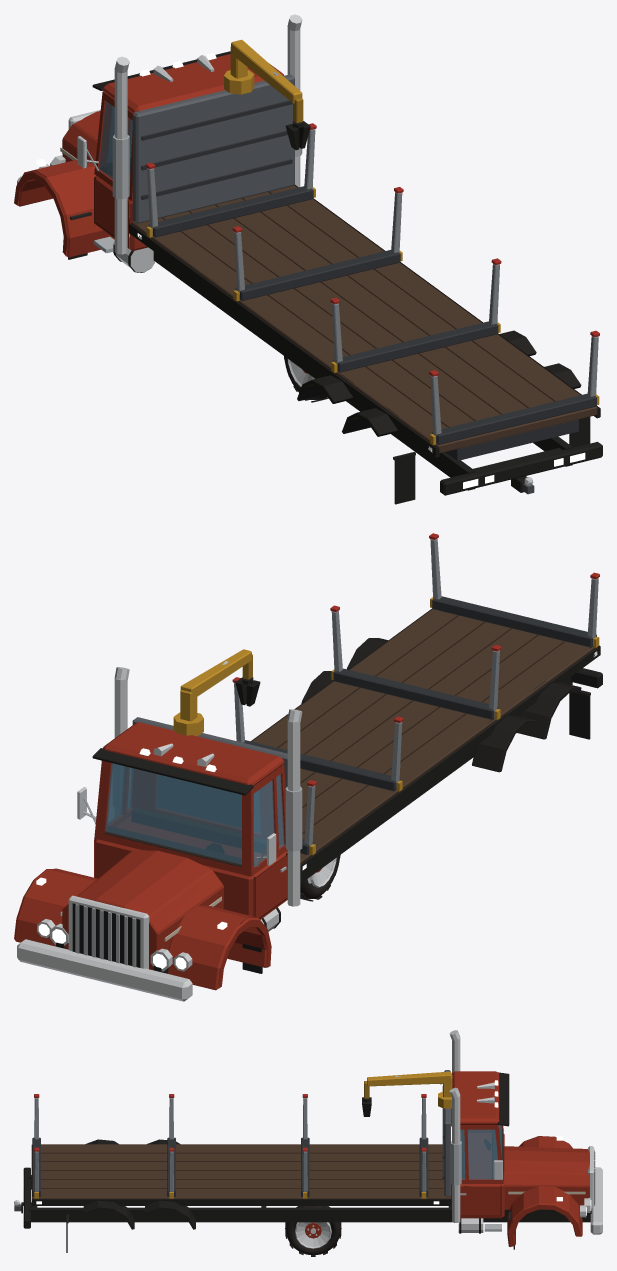
Rendered from LoggingRig.glb.
3 views of the same model, one above another, from view 1: azimuth 30°, elevation 25°; view 2: azimuth 150°, elevation 25°; view 3: azimuth 270°, elevation 25° (orthographic). The views are drawn at different scales.
Parts seen in each view (by area): view 1: Bed, Body, Glass, Lights; view 2: Body, Bed, Glass, Lights, Wheel; view 3: Bed, Body, Glass, Wheel.
Boxes of the visible parts, left/top/right/bottom form: Bed: left=129, top=74, right=600, bottom=457; Body: left=14, top=14, right=602, bottom=504; Glass: left=84, top=101, right=132, bottom=185; Lights: left=36, top=53, right=585, bottom=488; Body: left=14, top=638, right=602, bottom=1001; Bed: left=132, top=533, right=600, bottom=874; Glass: left=86, top=763, right=284, bottom=866; Lights: left=36, top=651, right=597, bottom=969; Wheel: left=300, top=855, right=340, bottom=901; Bed: left=31, top=1070, right=451, bottom=1205; Body: left=23, top=1030, right=602, bottom=1252; Glass: left=460, top=1125, right=502, bottom=1179; Wheel: left=285, top=1206, right=341, bottom=1256.
Size of the model in its own units: 12.99 by 17.26 by 47.45.
